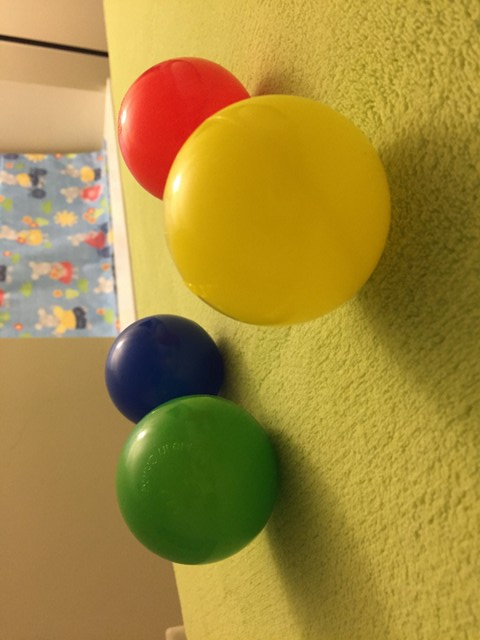Ball: (117, 52, 267, 201)
